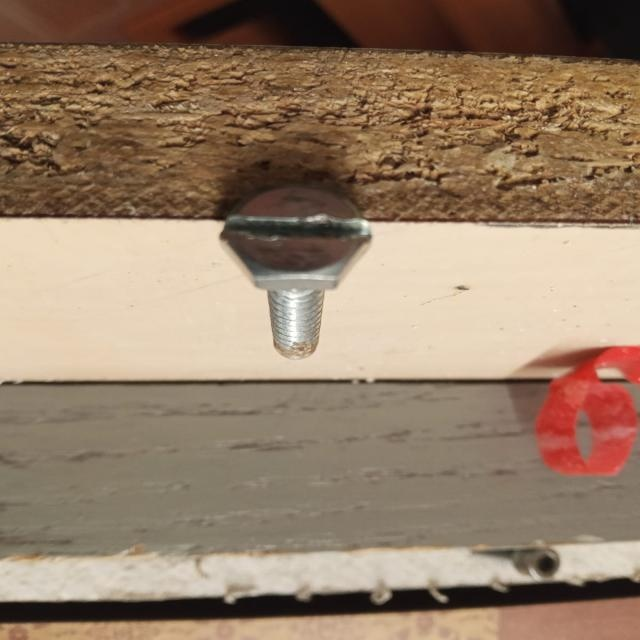duz: (216, 182, 375, 290)
